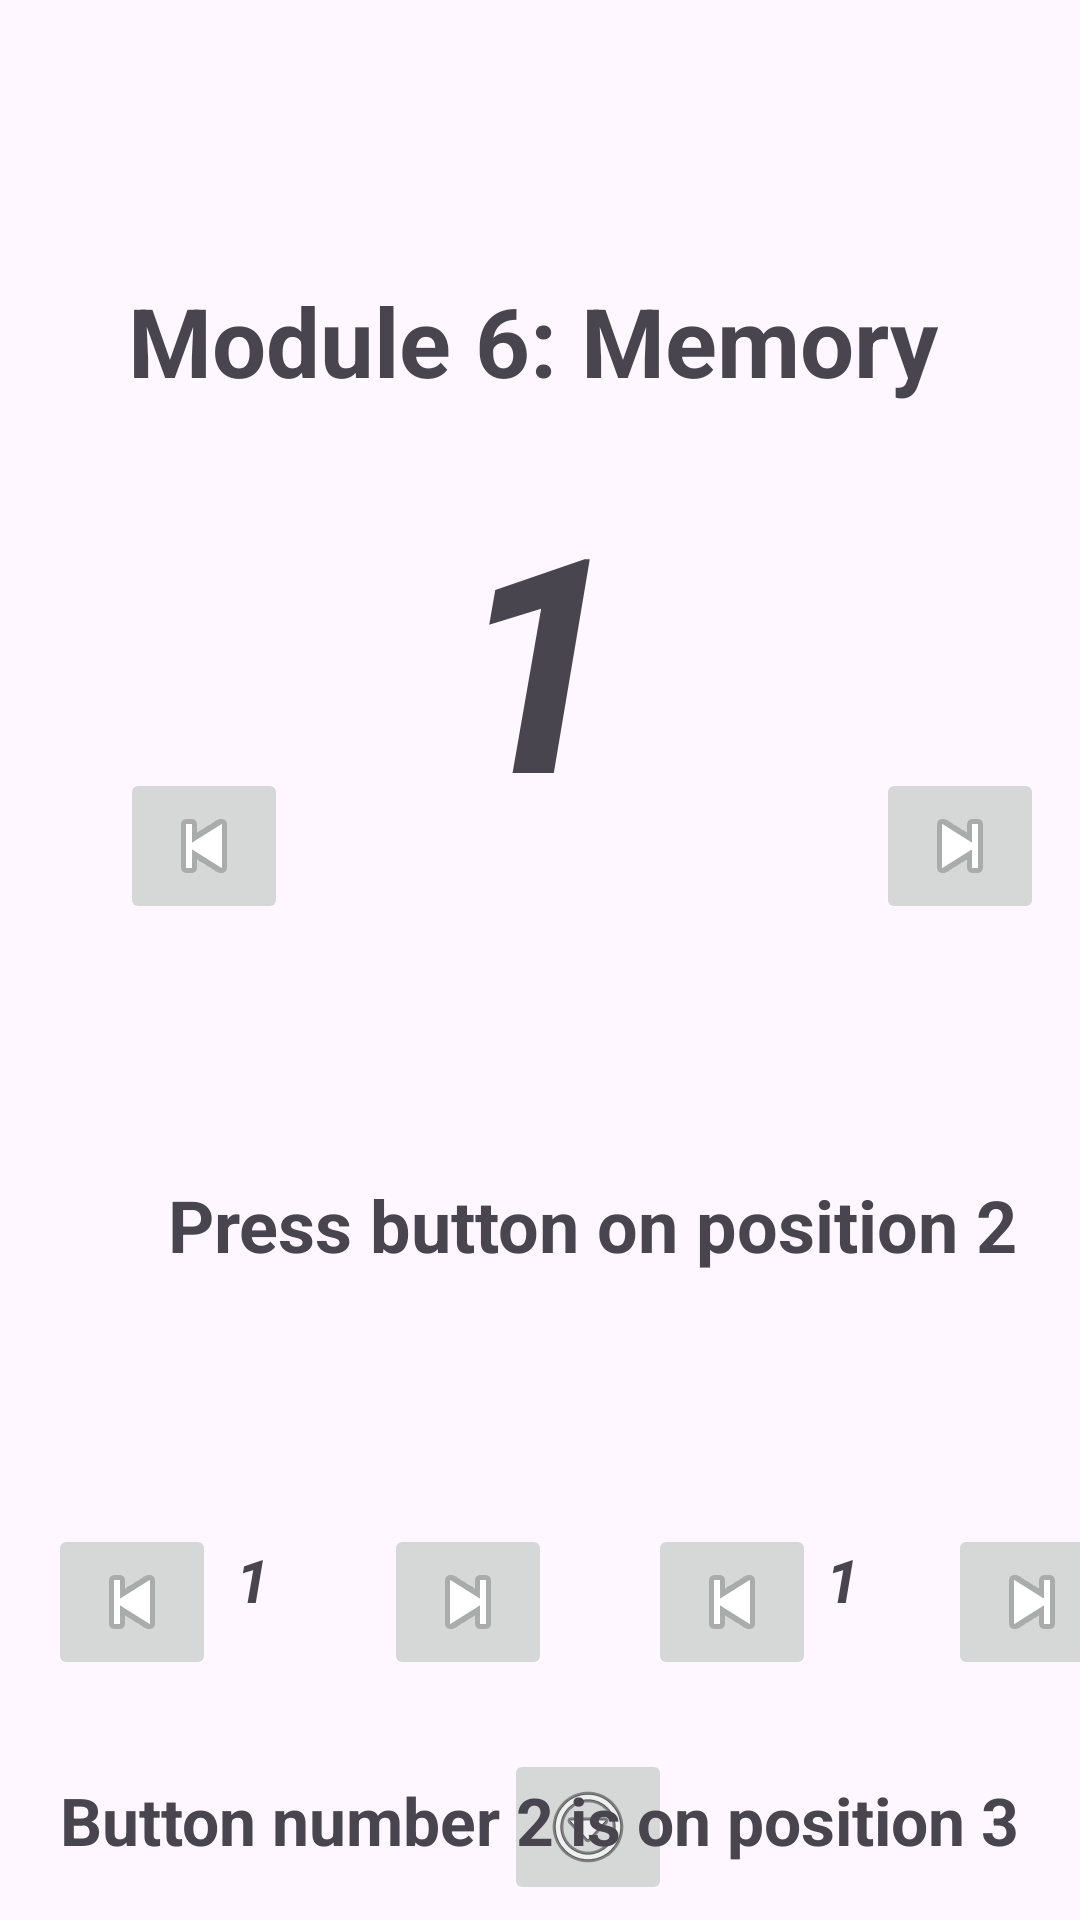

Icons on this 1080 × 1920 Android screen, each with its box as (x1, y1, x2, y2):
previous: (132, 786, 276, 906), (60, 1542, 204, 1662), (660, 1542, 804, 1662)
